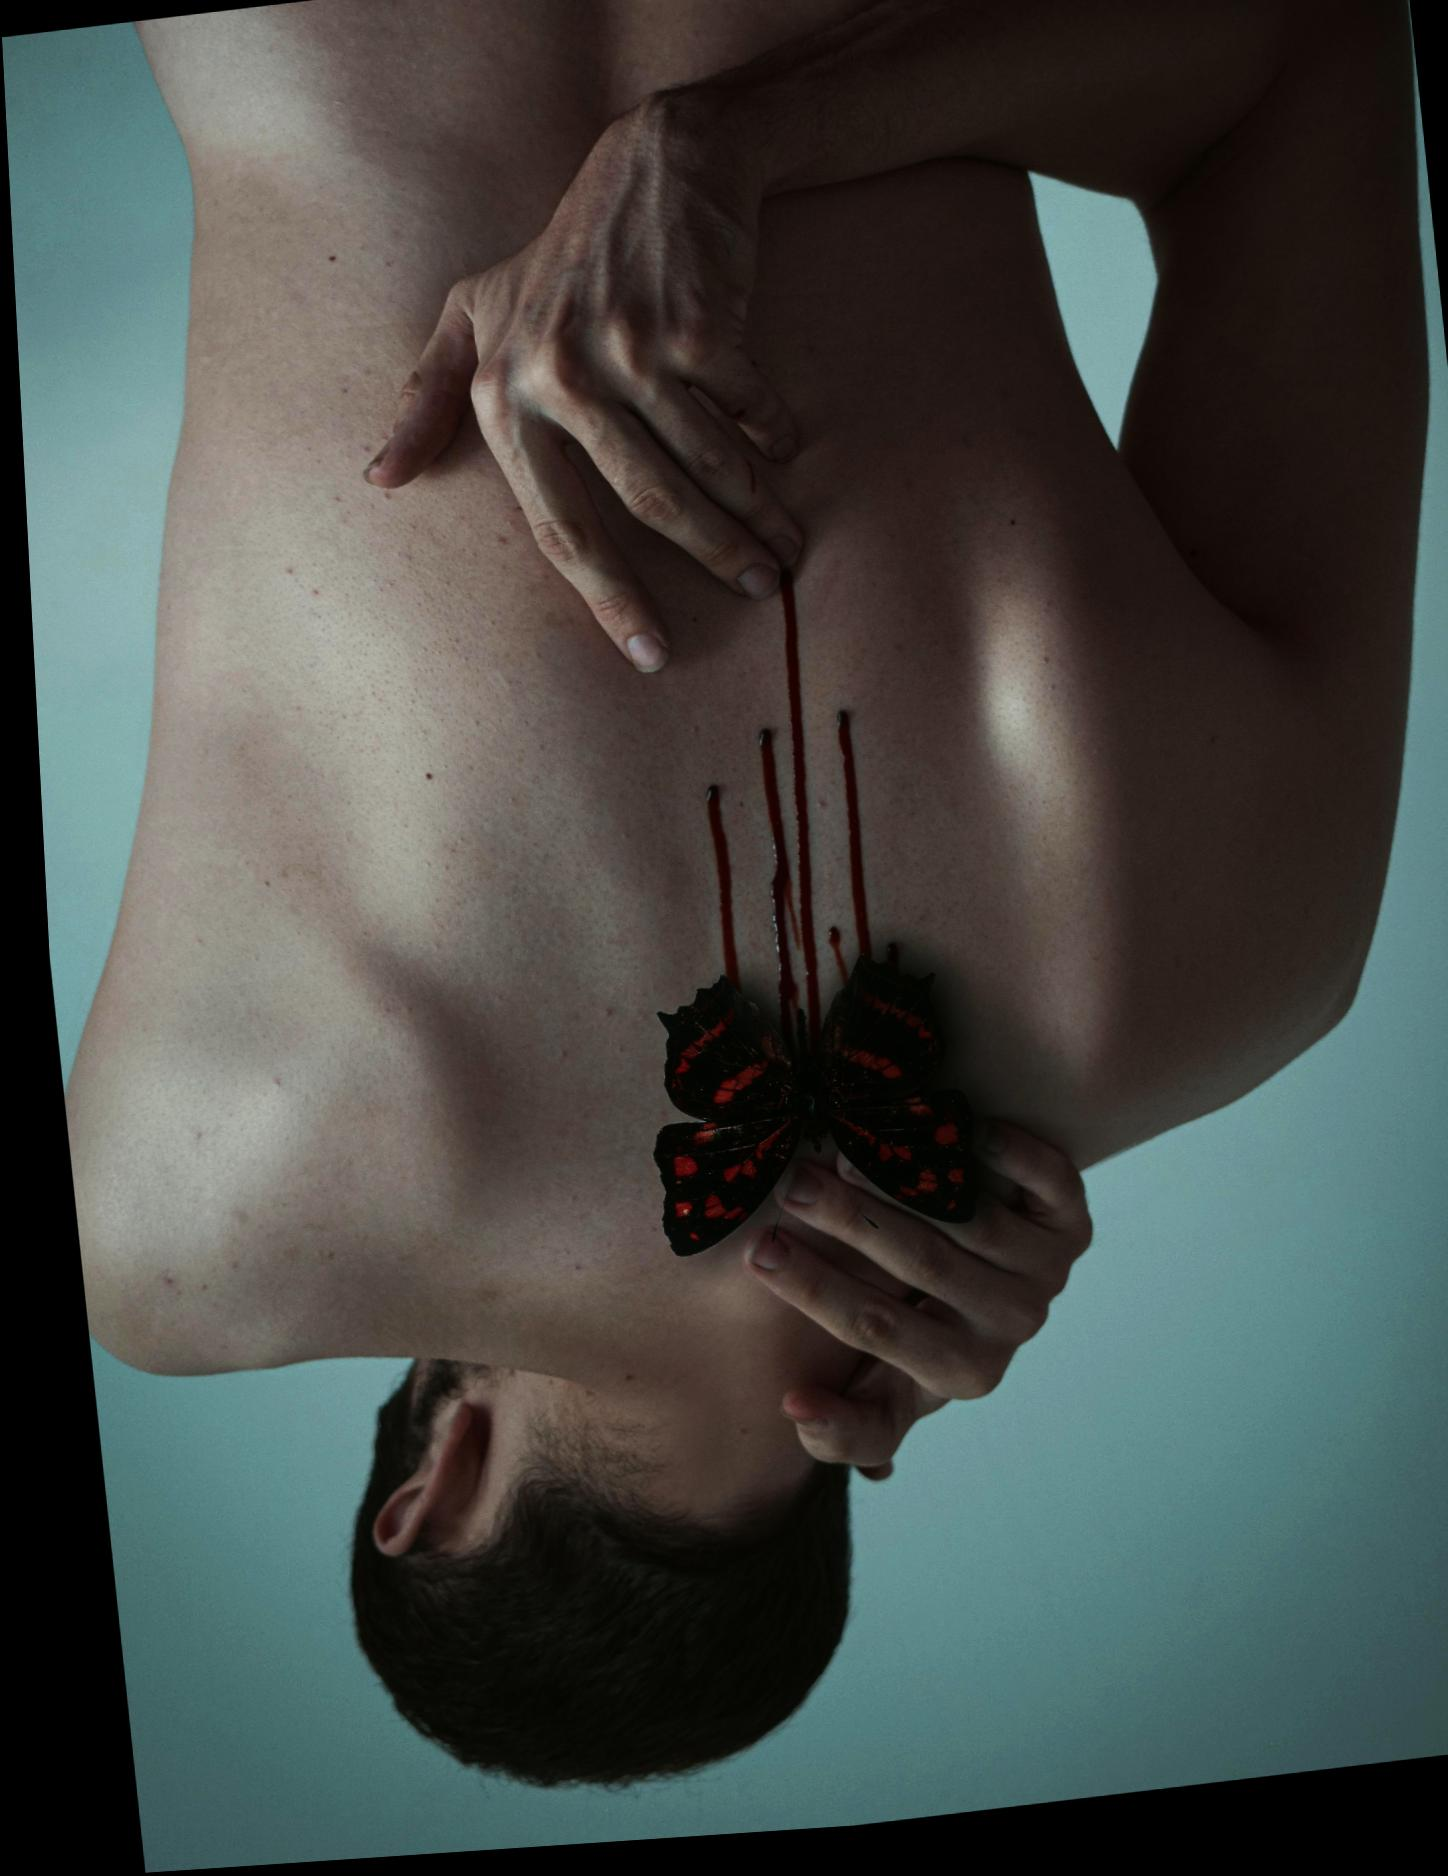Fire: (774, 579, 811, 1058), (751, 739, 788, 1064), (830, 722, 862, 970), (698, 795, 732, 1000), (818, 936, 838, 996)
